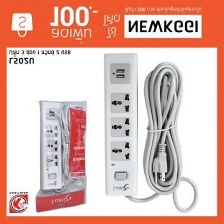three_eye_plug: (101, 50, 141, 199), (37, 99, 63, 192)
